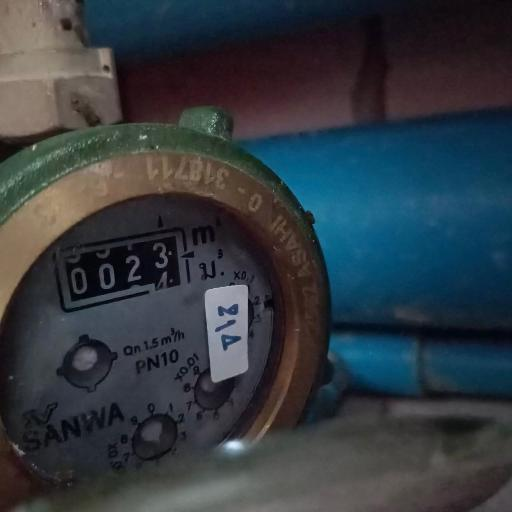0: (91, 246, 127, 296), (64, 252, 99, 302)
2: (119, 242, 153, 290)
3: (145, 235, 183, 291)
border_water_meter_number: (51, 226, 196, 314)
